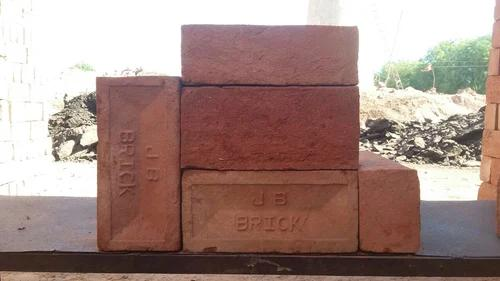brick: (179, 85, 360, 172), (98, 75, 180, 253), (184, 169, 357, 251), (179, 23, 359, 84), (359, 168, 421, 255)
